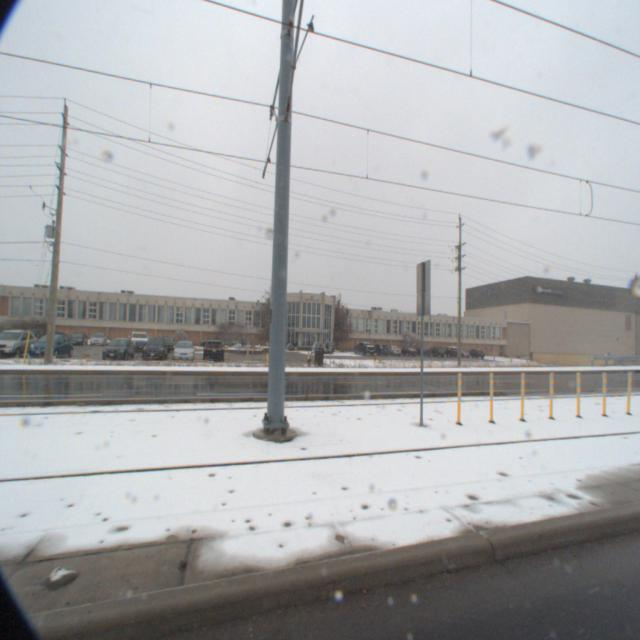Car: (12, 334, 66, 364), (91, 338, 131, 363), (134, 336, 164, 364), (119, 331, 147, 356), (167, 340, 191, 366), (199, 340, 222, 365)
